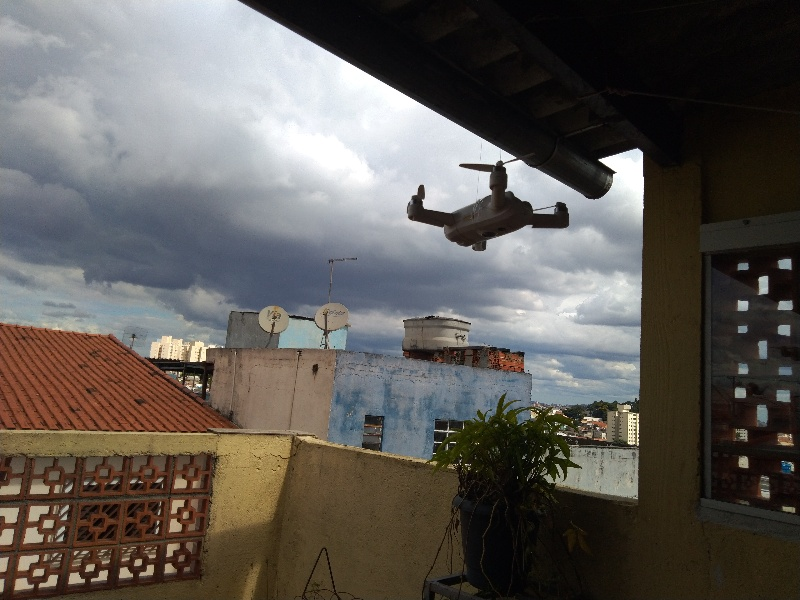drone: (404, 160, 573, 260)
